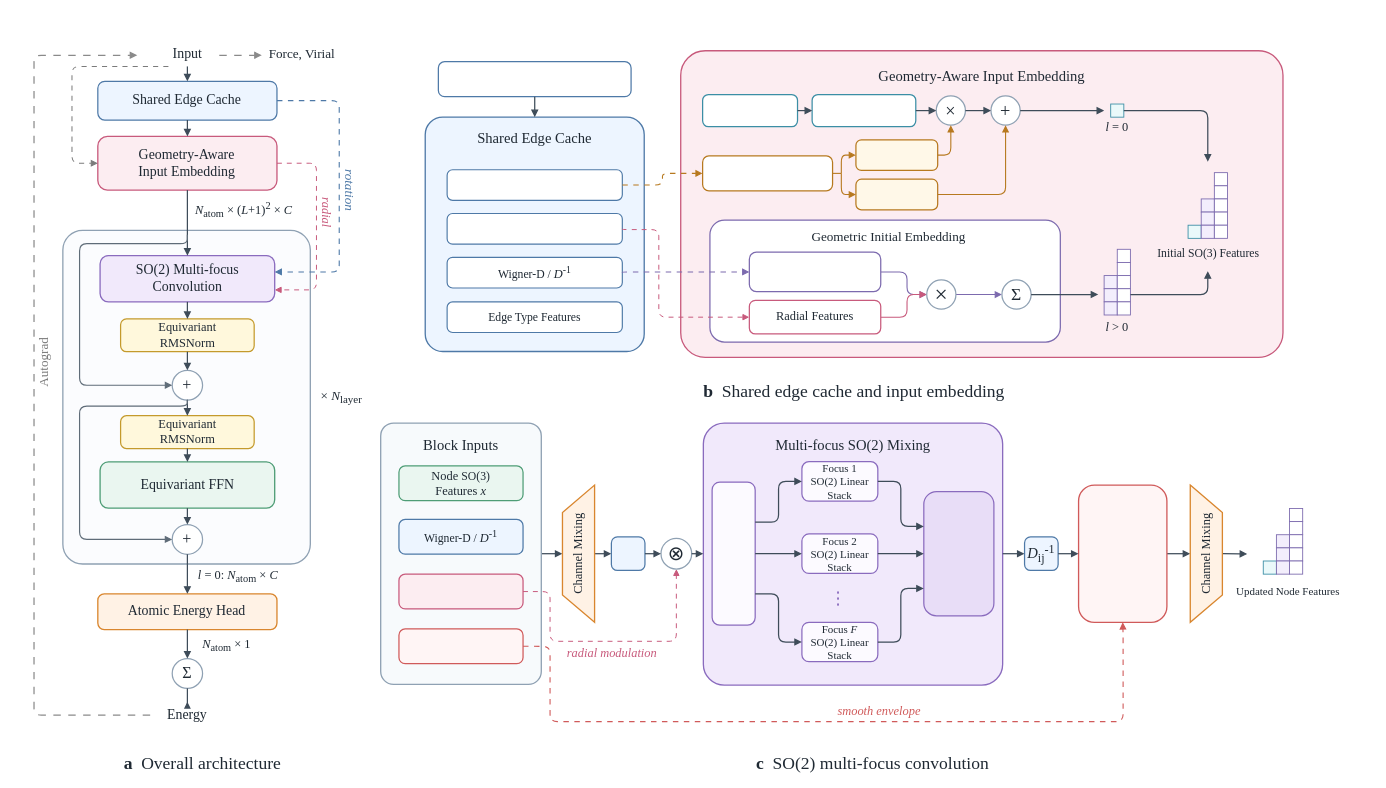
This 1386x788 diagram has some shape labels left out. The centre of each missing label's shape, as x and y in pixels:
"Atom Type" belongs at (x=750, y=110).
"Coord & Type & Neighbor List" belongs at (x=534, y=79).
"Cross Focus Softmax Competition" belongs at (x=958, y=553).
"Cutoff Envelope" belongs at (x=460, y=646).
"D ij" belongs at (x=627, y=553).
"Distance + Direction" belongs at (x=534, y=185).
"Environment Encoder" belongs at (x=767, y=173).
"F Streams" belongs at (x=733, y=553).
"Inverse Wigner-D m = 0 Column" belongs at (x=814, y=271).
"Radial & Type Features" belongs at (x=460, y=591).
"Radial Basis + Envelope" belongs at (x=534, y=228).
"Scale γ" belongs at (x=896, y=155).
"Shift β" belongs at (x=896, y=194).
"Smooth Gated Attention Aggregation" belongs at (x=1122, y=553).
"Type Features" belongs at (x=863, y=110).
